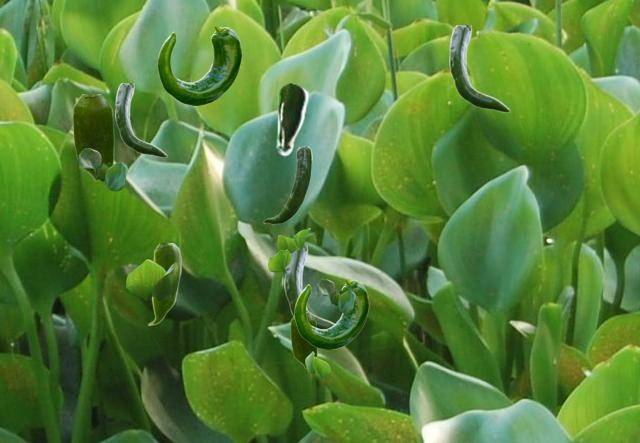green_chili: (157, 27, 241, 104), (449, 25, 509, 111), (294, 280, 368, 348), (284, 245, 334, 327), (115, 83, 166, 156), (263, 146, 311, 223), (72, 94, 113, 180), (147, 243, 180, 325), (274, 82, 308, 155), (290, 312, 316, 367)
